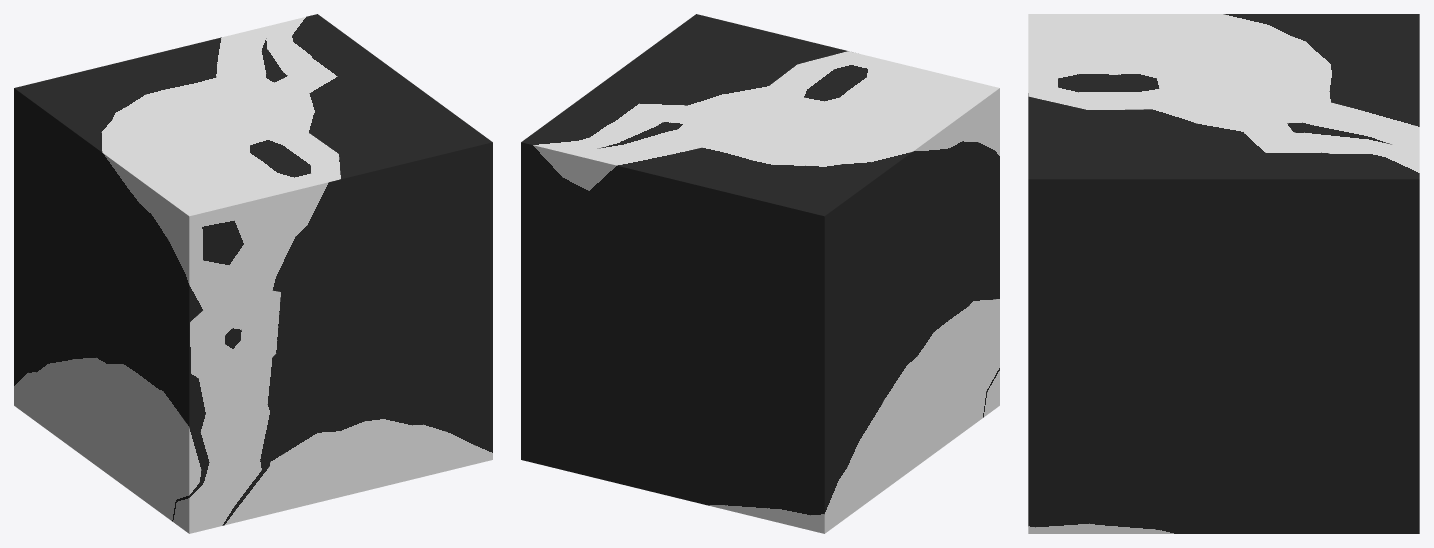
Rendered from cube_100mm_cgal_conformal_result.glb.
The picture shows the model from 3 angles, left to right: view 1: azimuth 30°, elevation 25°; view 2: azimuth 150°, elevation 25°; view 3: azimuth 270°, elevation 25°; orthographic projection. The views are drawn at different scales.
Size of the model in its own units: 100 by 100 by 100.
1 material, 1 textured.
